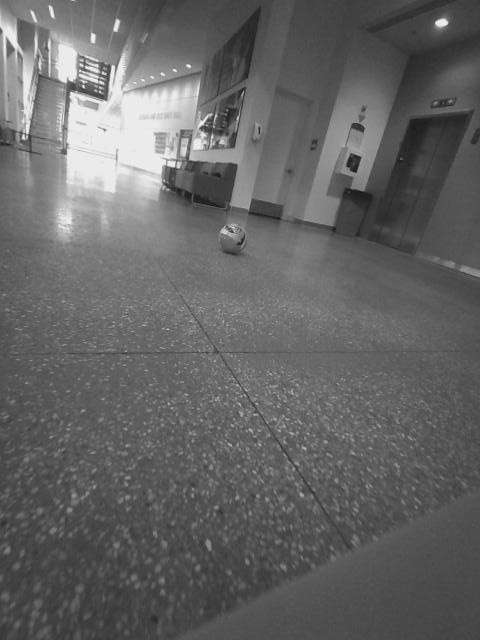ball: (246, 230, 277, 262)
